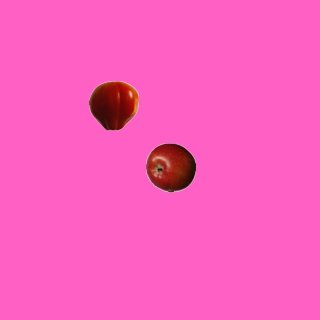Apple Braeburn: (145, 142, 195, 192)
Tomato 1: (88, 80, 138, 130)
